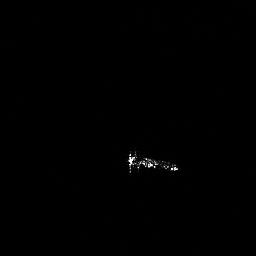ship: (123, 146, 181, 178)
